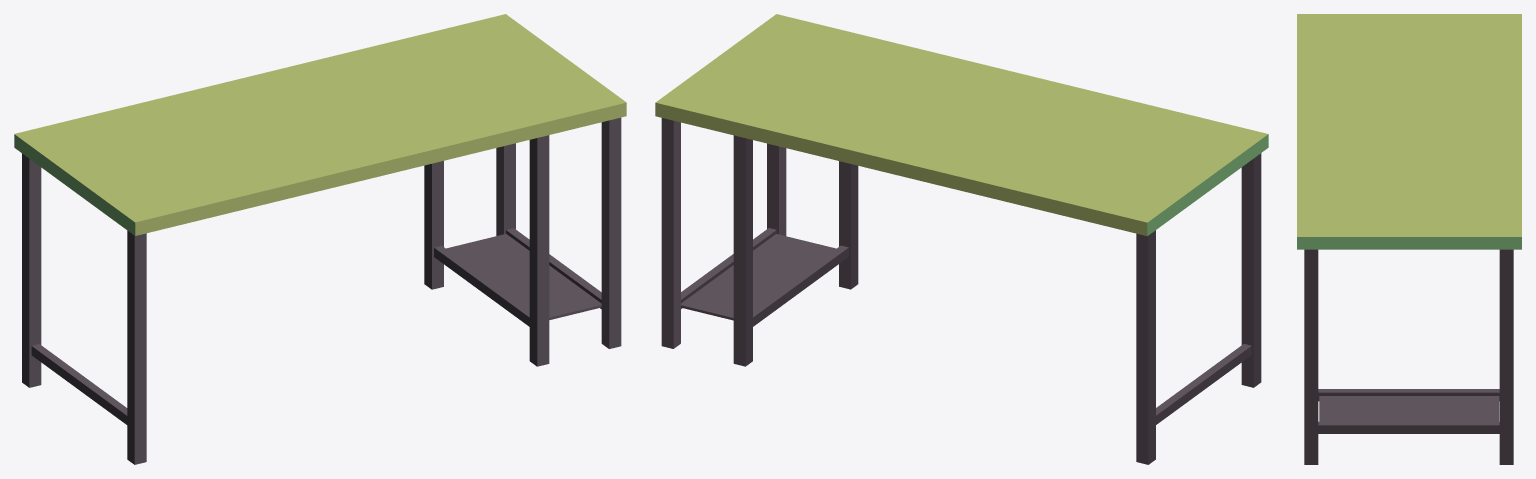
File: Computer Desk.fbx
The picture shows the model from 3 angles, left to right: view 1: azimuth 30°, elevation 25°; view 2: azimuth 150°, elevation 25°; view 3: azimuth 270°, elevation 25°; orthographic projection. The views are drawn at different scales.
Parts seen in each view (by area): view 1: Computer Desk; view 2: Computer Desk; view 3: Computer Desk.
Boxes of the visible parts, <box> form: Computer Desk: <box>14,14,626,464</box>; Computer Desk: <box>655,14,1268,464</box>; Computer Desk: <box>1297,14,1521,464</box>.
Bounding box in the file's own units: 364 × 174 × 155.
